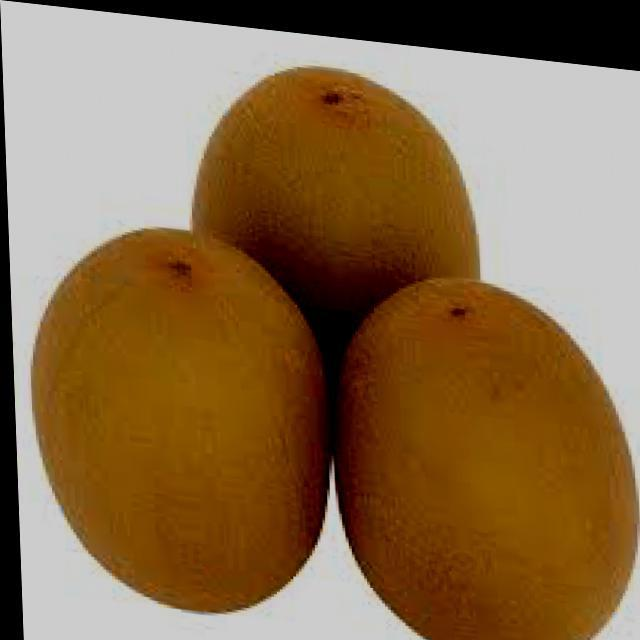kiwi: (25, 213, 334, 623), (328, 259, 640, 640), (181, 48, 481, 302)
